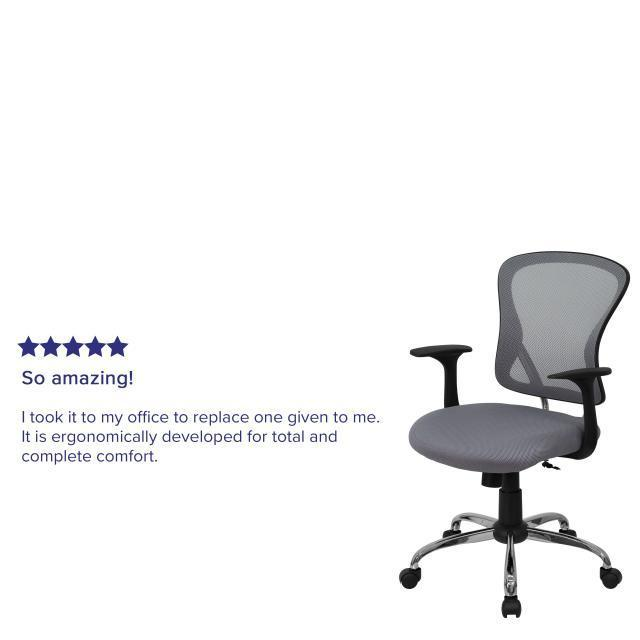chair: (384, 235, 640, 620)
